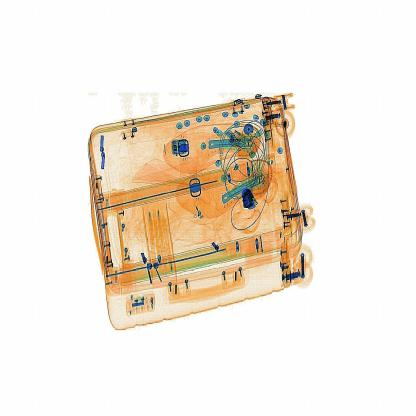scissors: (233, 182, 263, 219)
